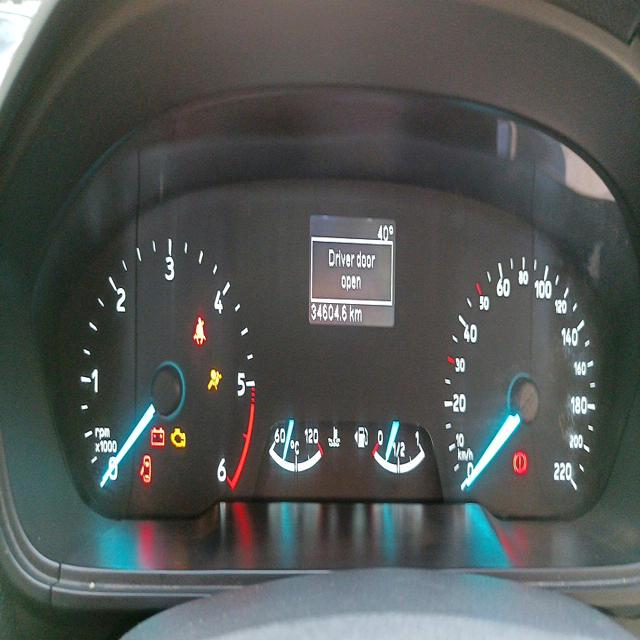odometer: (311, 301, 350, 326)
